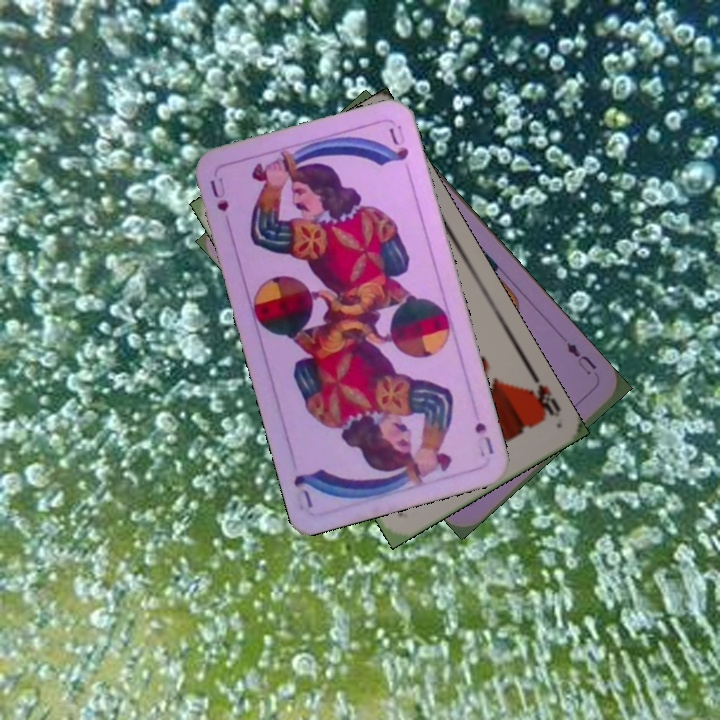EU: (562, 338, 600, 378)
HO: (522, 367, 564, 422)
SU: (205, 172, 232, 215), (470, 418, 496, 460)
